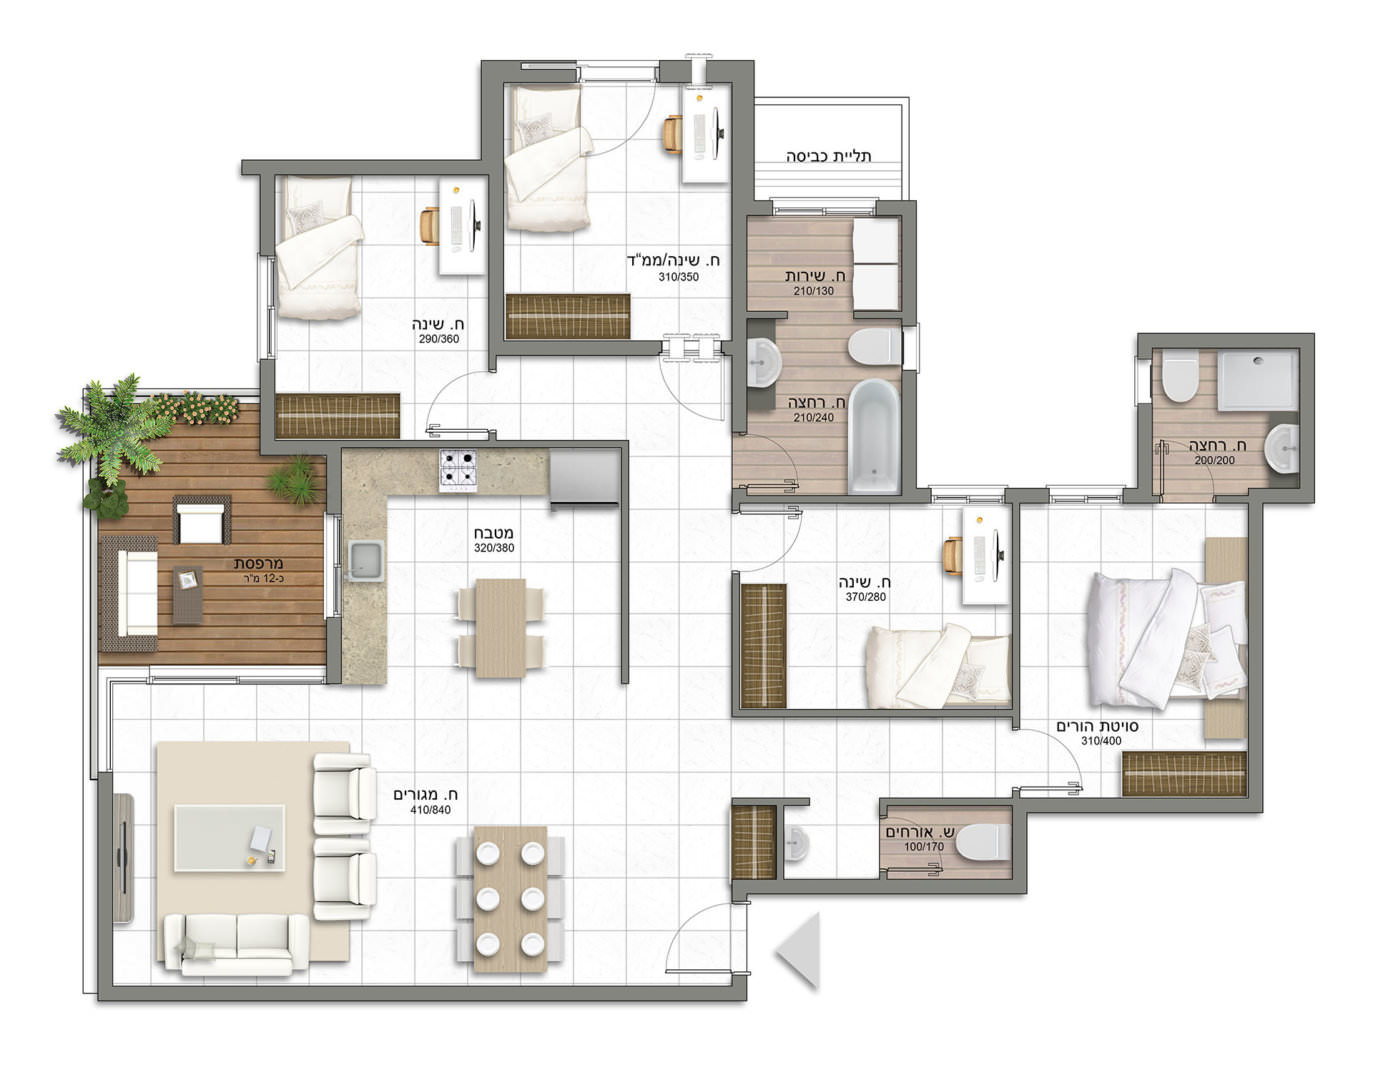door: (653, 359, 730, 429), (645, 914, 713, 982), (1017, 724, 1085, 792), (410, 374, 475, 437), (762, 504, 810, 567)
wall: (1015, 792, 1267, 902), (110, 982, 753, 1004), (1245, 497, 1273, 819), (483, 60, 507, 364), (748, 884, 1035, 897), (238, 160, 495, 174), (733, 60, 750, 218)
window: (260, 257, 277, 354), (323, 514, 340, 612), (932, 481, 1003, 504)
